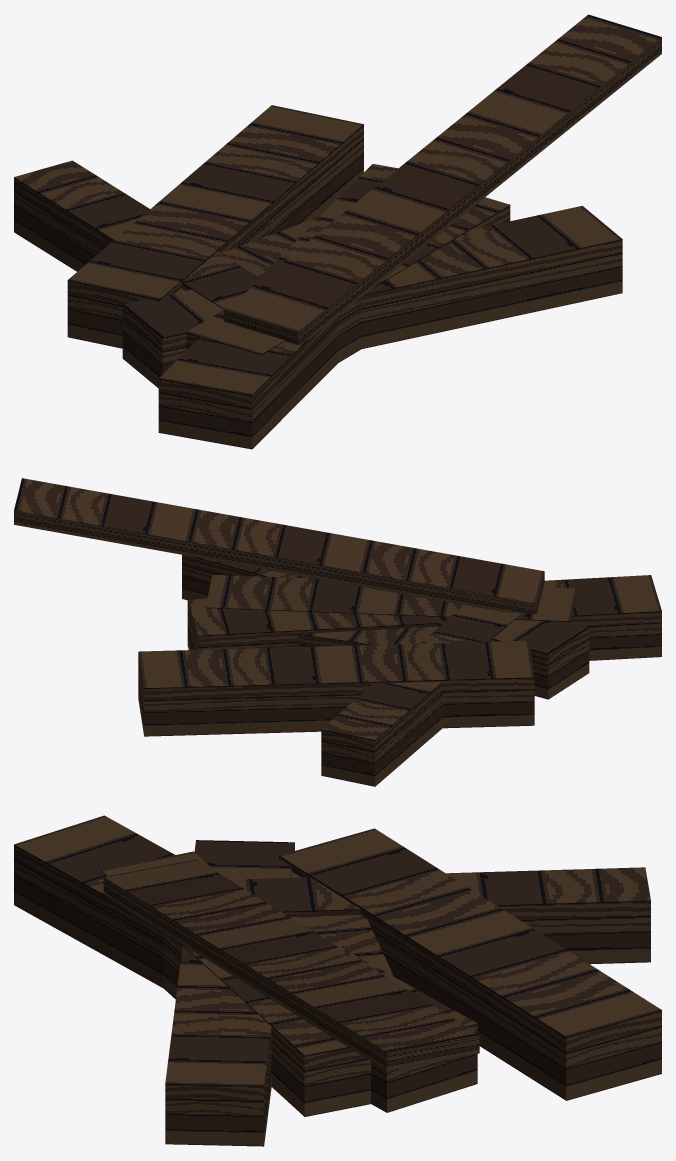
The model's file is MAR-02_Restos_a_la_deriva_a.gltf.
3 views of the same model, one above another, from view 1: azimuth 30°, elevation 25°; view 2: azimuth 150°, elevation 25°; view 3: azimuth 270°, elevation 25° (orthographic). The views are drawn at different scales.
Visible parts, largest first — view 1: MAR-02_Restos_a_la_deriva_a-convcol; view 2: MAR-02_Restos_a_la_deriva_a-convcol; view 3: MAR-02_Restos_a_la_deriva_a-convcol.
Part boxes in pixels (box(x1,y1,x2,y2)): MAR-02_Restos_a_la_deriva_a-convcol: box(14, 14, 661, 449); MAR-02_Restos_a_la_deriva_a-convcol: box(14, 478, 661, 786); MAR-02_Restos_a_la_deriva_a-convcol: box(14, 815, 661, 1146).
Bounding box in the file's own units: 1.76 × 0.4 × 1.4.
Materials: 1 (1 with a texture image).
